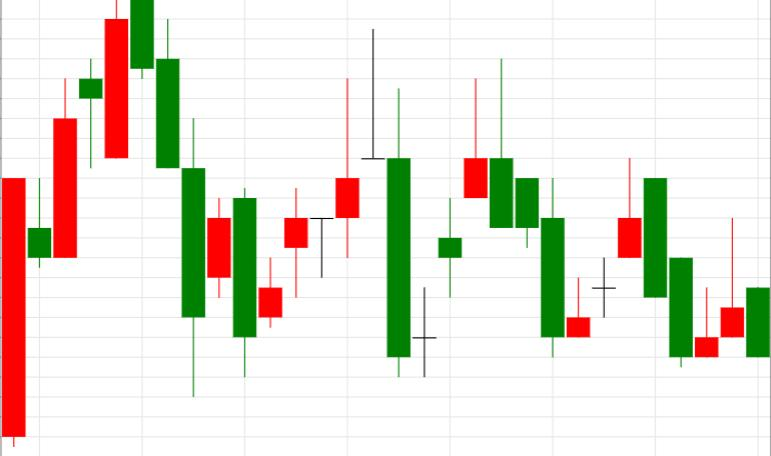three_black_crows_fall: (2, 0, 205, 447)
